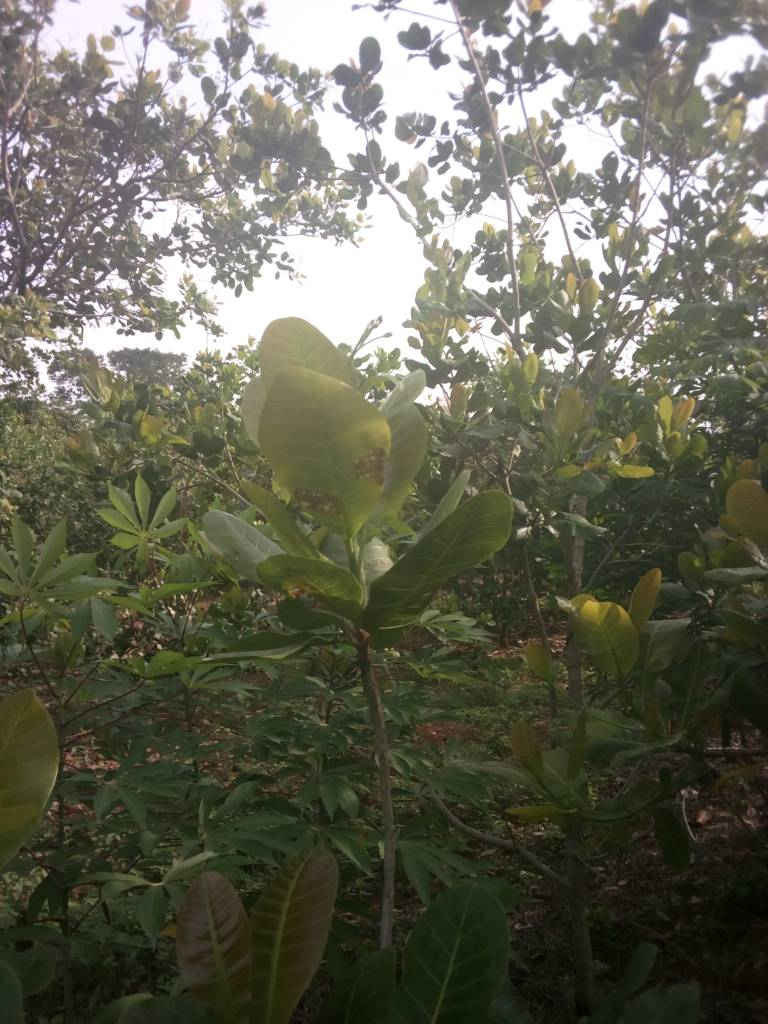Bactériose: (260, 369, 388, 542), (252, 549, 366, 633)
